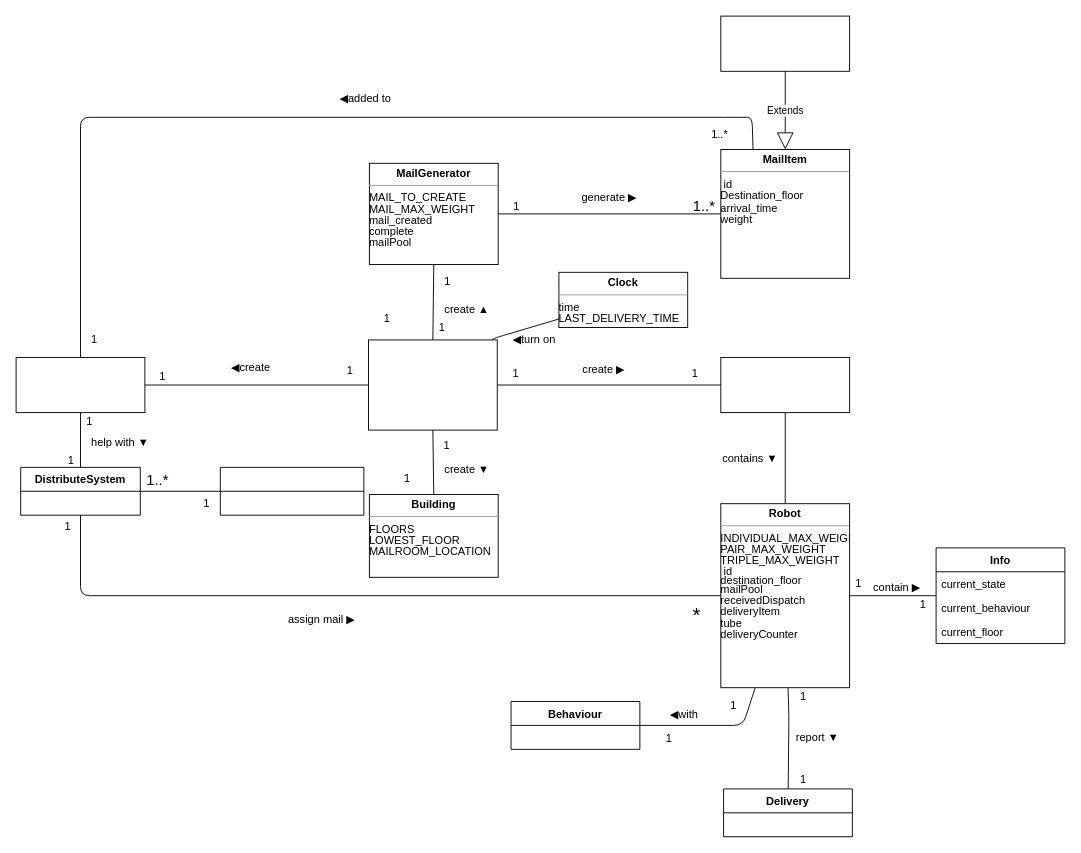
Image size: 1081x853. Some labels were removed from this diagram. The centre of each missing label's shape, as x and y in pixels:
"Automail robots mailPool" belongs at pixel 785 384.
"DistributeSystemFactory" belongs at pixel 291 490.
"MailPool" belongs at pixel 80 384.
"PriorityMail PRIORITY_LEVEL" belongs at pixel 785 43.
"Simulation MAIL_TO_CREATE MAIL_DELIVERED MAIL_MAX_WEIGHT total_score" belongs at pixel 432 384.
